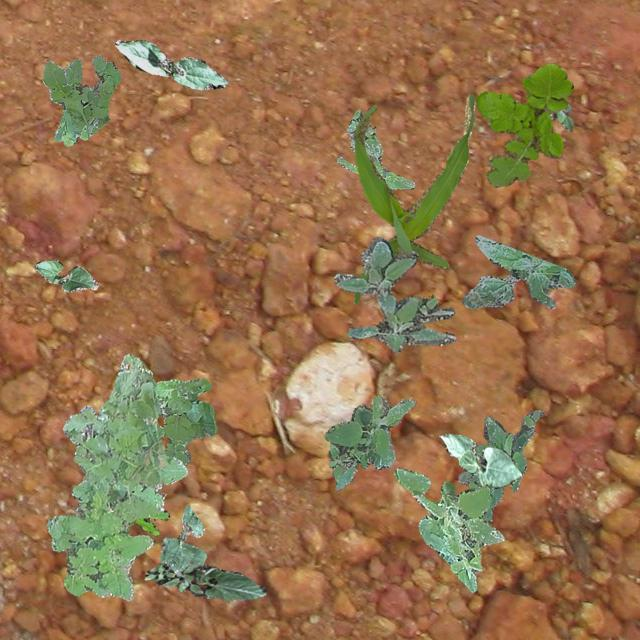crop: (352, 92, 473, 304), (160, 536, 266, 600), (115, 40, 226, 90), (440, 432, 520, 488), (164, 504, 204, 574), (34, 260, 98, 292)
weed: (46, 352, 186, 600), (332, 236, 454, 352), (392, 466, 503, 592), (474, 62, 572, 186), (457, 408, 542, 522), (324, 394, 414, 490), (460, 235, 574, 308), (42, 54, 120, 146), (336, 108, 414, 188), (156, 378, 216, 464), (144, 558, 204, 596), (124, 508, 168, 534), (548, 104, 572, 130)
